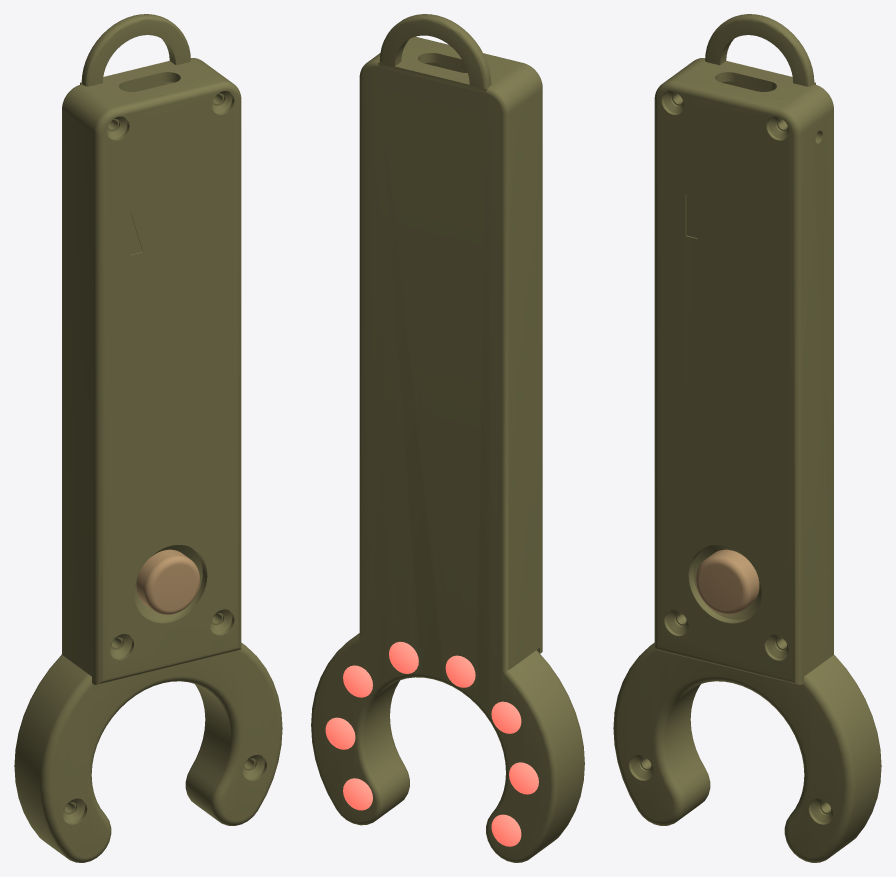
The model's file is venovisor-mark.parts.glb.
The picture shows the model from 3 angles, left to right: view 1: azimuth 30°, elevation 25°; view 2: azimuth 150°, elevation 25°; view 3: azimuth 330°, elevation 25°; orthographic projection. The views are drawn at different scales.
Parts seen in each view (by area): view 1: cover, case, cover-round, button-cover; view 2: case, cover, led-lenses, cover-round; view 3: cover, case, cover-round, button-cover.
Boxes of the visible parts, <box> form: cover: <box>85,74,241,684</box>; case: <box>14,14,255,851</box>; cover-round: <box>32,642,282,862</box>; button-cover: <box>136,549,199,614</box>; case: <box>311,14,575,862</box>; cover: <box>406,36,542,653</box>; led-lenses: <box>325,641,538,846</box>; cover-round: <box>370,650,584,846</box>; cover: <box>654,74,810,684</box>; case: <box>640,14,881,851</box>; cover-round: <box>613,642,863,862</box>; button-cover: <box>696,549,759,614</box>.
Bounding box in the file's own units: 0.0396 × 0.1267 × 0.0123.
